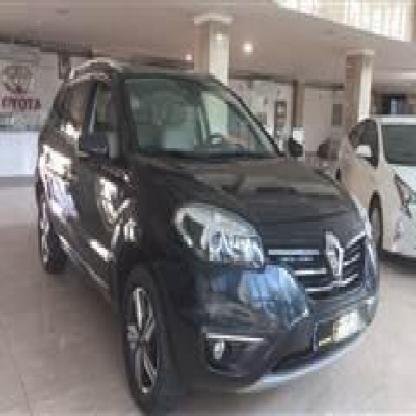Car: (35, 60, 388, 413), (334, 88, 416, 280)
